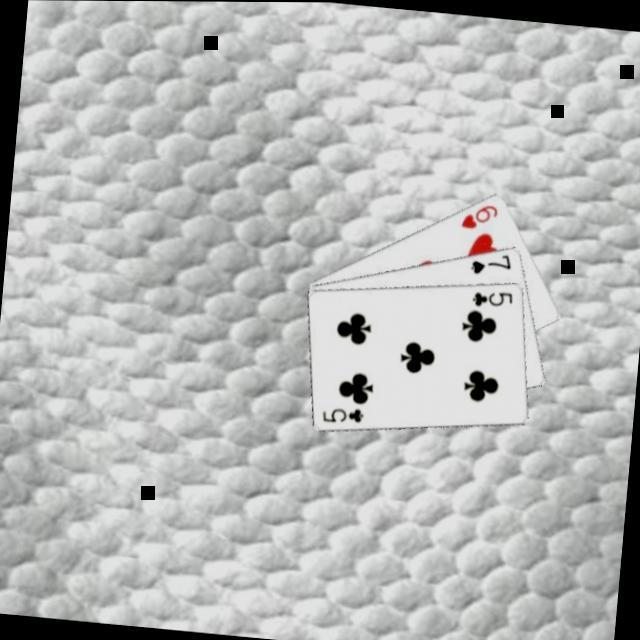5C: (466, 286, 514, 313), (317, 402, 365, 428)
6H: (455, 199, 500, 235)
7S: (465, 248, 513, 280)
